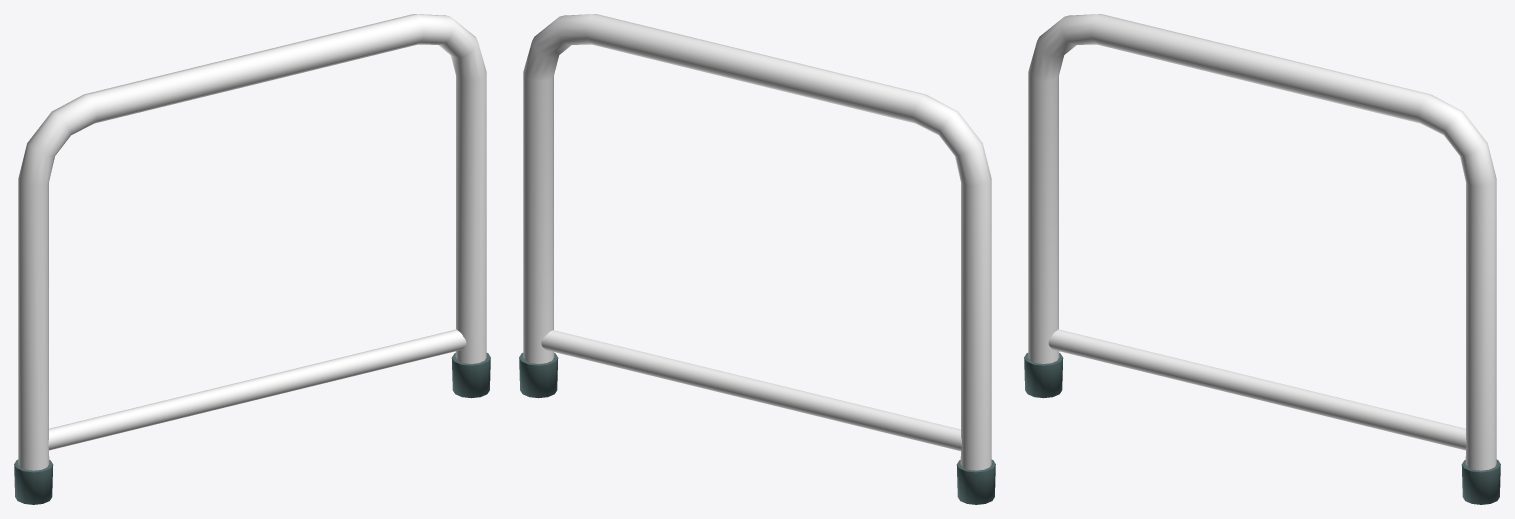
The model's file is test_hanger1.fbx.
The picture shows the model from 3 angles, left to right: view 1: azimuth 30°, elevation 25°; view 2: azimuth 150°, elevation 25°; view 3: azimuth 330°, elevation 25°; orthographic projection.
Visible parts, largest first — view 1: Plane.001; view 2: Plane.001; view 3: Plane.001.
Part boxes in pixels (x1=…): Plane.001: x1=14, y1=14, x2=490, y2=504; Plane.001: x1=519, y1=14, x2=995, y2=504; Plane.001: x1=1024, y1=14, x2=1500, y2=504.
Bounding box in the file's own units: 316 × 249 × 22.69.
